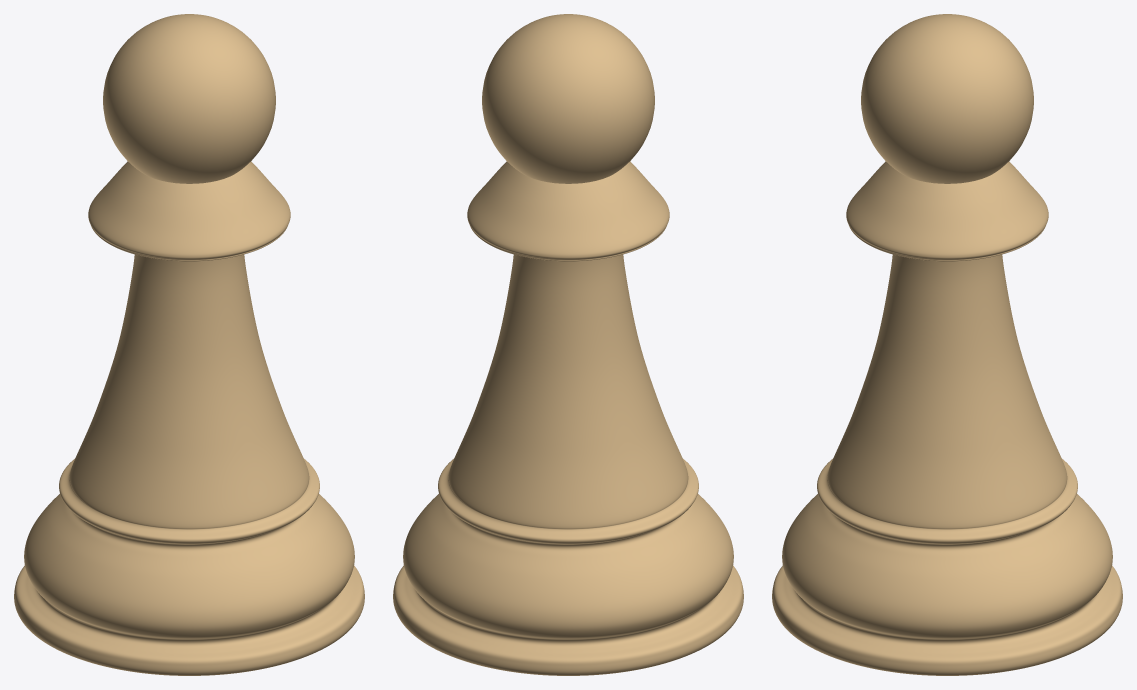
The model's file is pawn.glb.
3 views of the same model, side by side, from view 1: azimuth 30°, elevation 25°; view 2: azimuth 150°, elevation 25°; view 3: azimuth 270°, elevation 25° (orthographic).
Parts seen in each view (by area): view 1: Pawn.002; view 2: Pawn.002; view 3: Pawn.002.
Boxes of the visible parts, left/top/right/bottom form: Pawn.002: left=14, top=14, right=364, bottom=675; Pawn.002: left=393, top=14, right=743, bottom=675; Pawn.002: left=772, top=14, right=1122, bottom=675.
Size of the model in its own units: 0.0302 by 0.056 by 0.0302.
